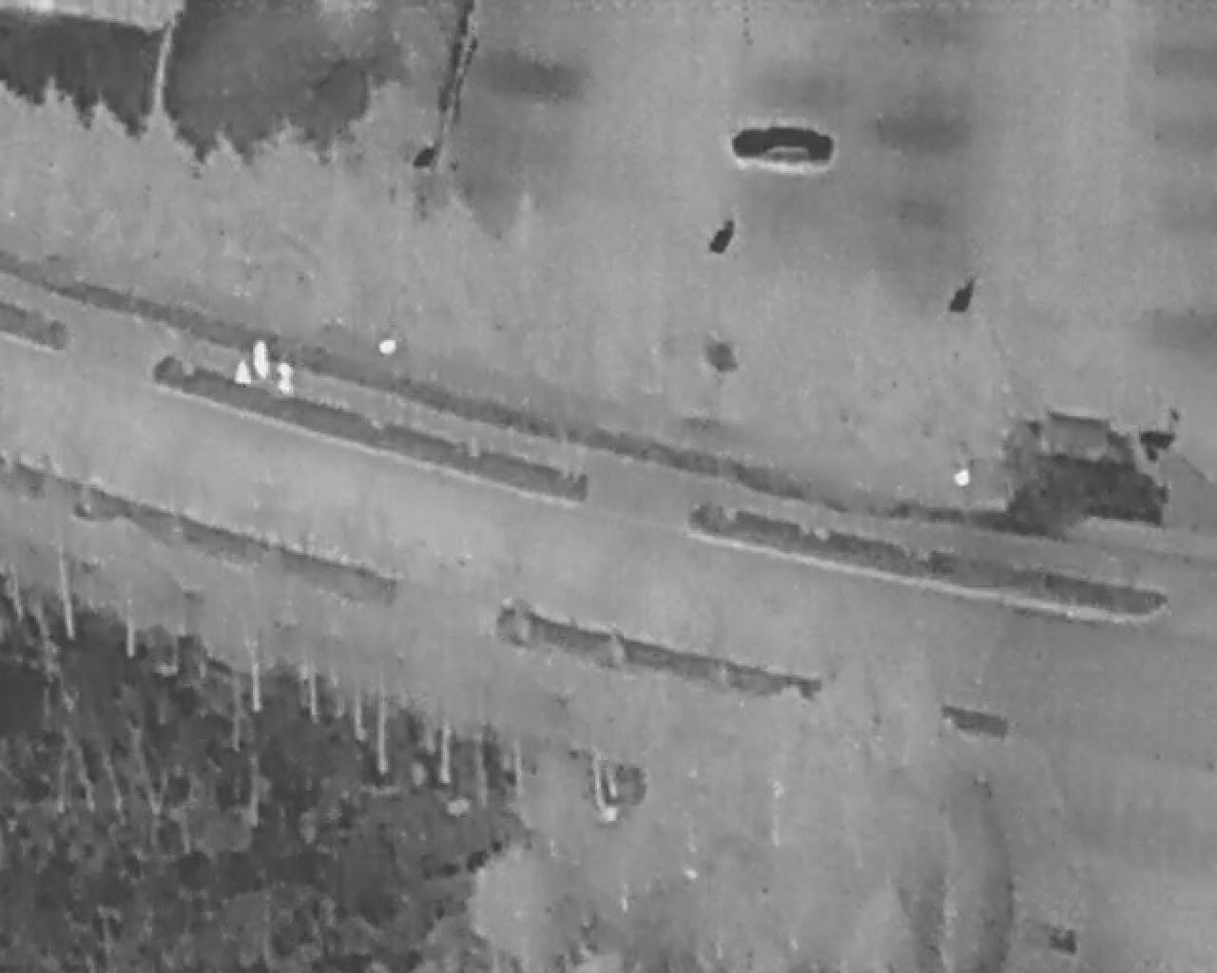person: (279, 358, 298, 400), (252, 337, 269, 381), (233, 360, 250, 389)
